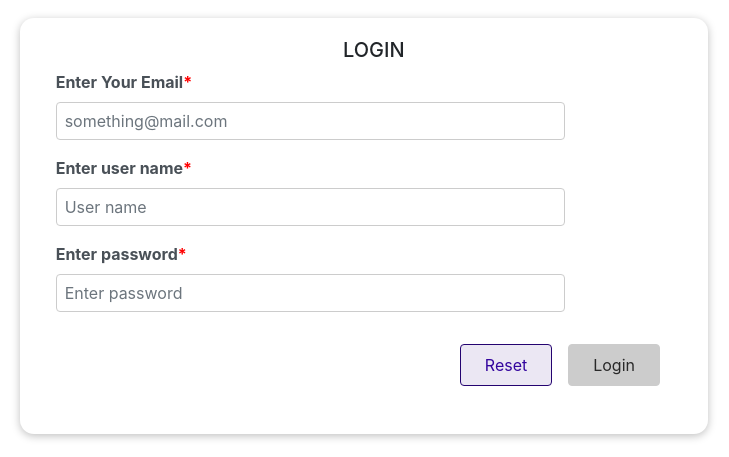
Test: <Login/> › Test login button is enabled after form filled
Step 1. Type "testuser" into the field labelled "Enter user name*" → (310, 207), box [56,188,565,226]
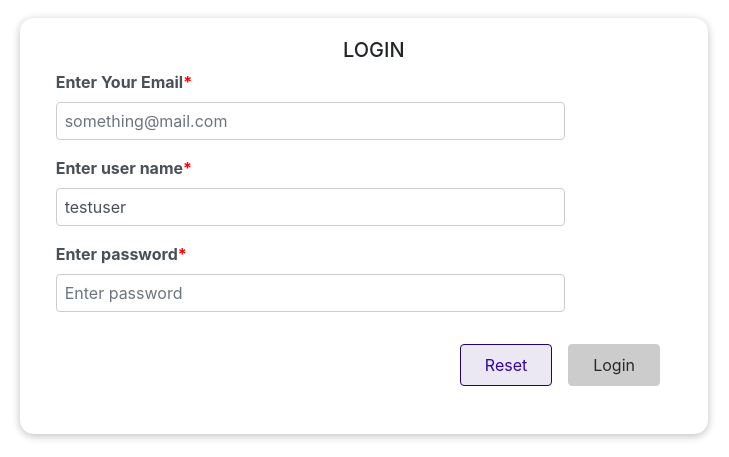
Step 2. Type "testuser@mail.com" into the field labelled "Enter Your Email*" → (310, 121), box [56,102,565,140]
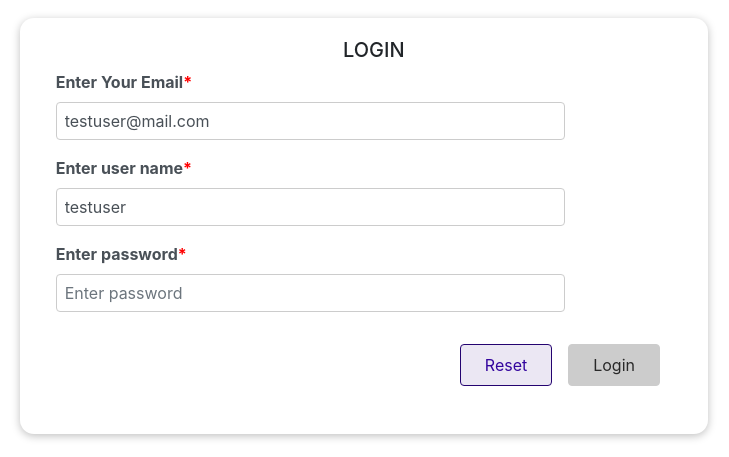
Step 3. Type "Testuser12@" into the password field labelled "Enter password*" → (310, 293), box [56,274,565,312]
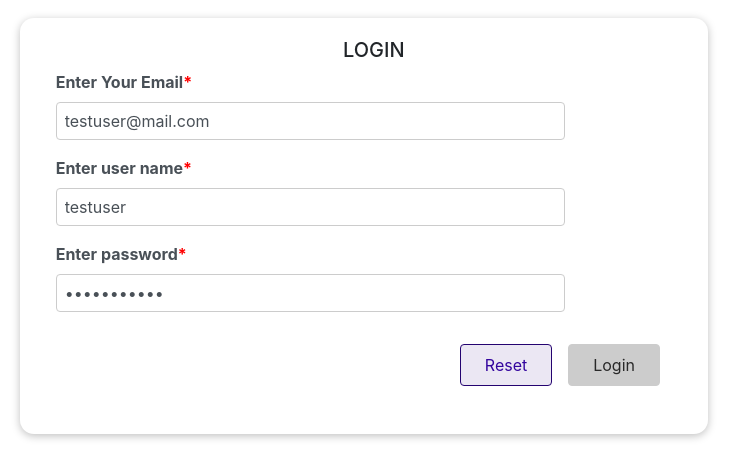
Step 4. Leave the password field labelled "Enter password*", box [56,274,565,312]
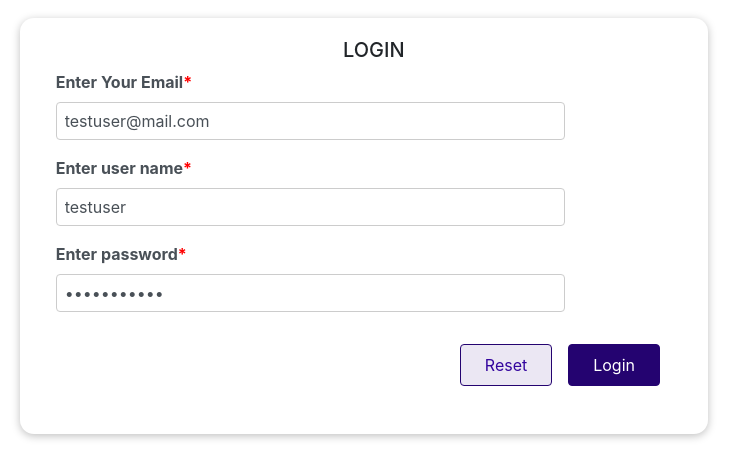
Expected: the button "Login" is enabled, [568,344,660,386]
